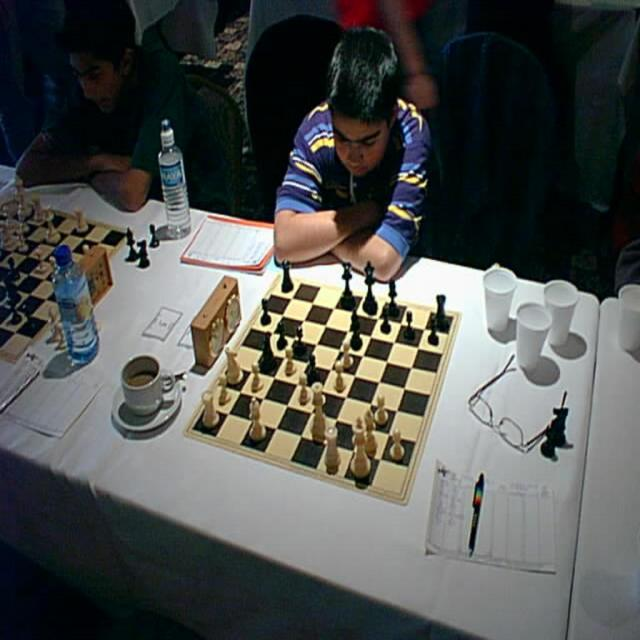Coffee: (126, 372, 156, 381)
